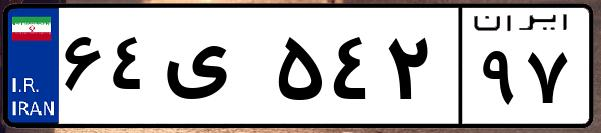2: (385, 28, 445, 110)
4: (330, 28, 385, 110), (110, 28, 158, 98)
5: (270, 28, 330, 110)
6: (57, 26, 110, 100)
7: (525, 38, 570, 115)
9: (475, 38, 525, 113)
ی: (158, 20, 270, 120)
